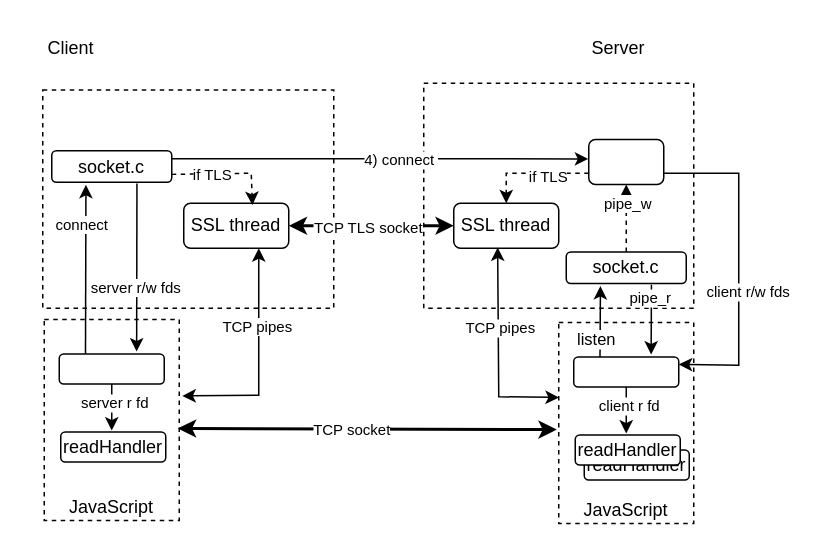
Image size: 816x551. Some labels were removed from this diagram. The shapes that lost their labels are listed below. From the top down, each one's box as (x1, y1, x2, y2) in pixels, then its label:
(587, 138, 664, 184): accept thread
(41, 88, 334, 308): socket.so - Client
(422, 82, 694, 308): socket.so - Server
(58, 352, 164, 384): client.js
(572, 356, 679, 387): server.js
